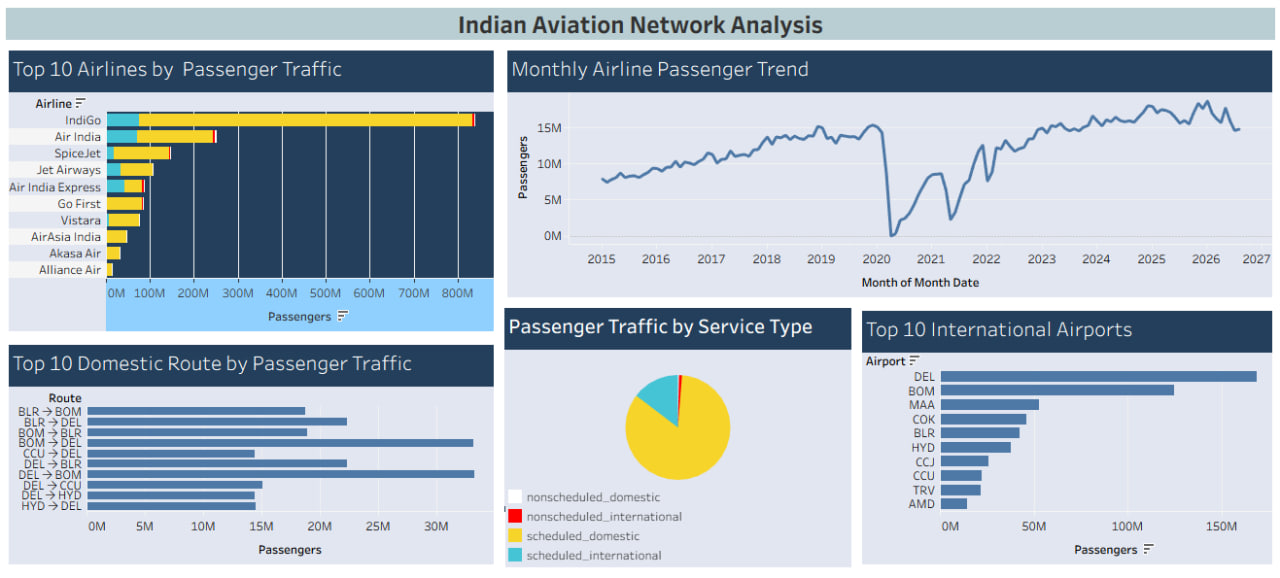

The page's visual inventory and layout, read from the dashboard file:
{"tool":"tableau","page":{"name":"Indian Aviation Network Analysis","canvas":[1330,600],"ordinal":1},"visuals":[{"type":"title","box":[8,8,1314,41]},{"type":"worksheet","title":"Top 10 Airlines by  Passenger Traffic","mark":"Automatic","rows":["airline"],"cols":["passengers"],"box":[8,49,512.9,303.1]},{"type":"worksheet","title":"Monthly Airline Passenger Trend","mark":"Line","rows":["passengers"],"cols":["Calculation_1193312022548481"],"box":[520.9,49,801.1,268]},{"type":"worksheet","title":"Passenger Traffic by Service Type","mark":"Pie","box":[520.9,317,365.1,218]},{"type":"worksheet","title":"Top 10 International Airports","mark":"Bar","rows":["airport"],"cols":["passengers"],"box":[886,317,436,275]},{"type":"worksheet","title":"Top 10 Domestic Route by Passenger Traffic","mark":"Automatic","rows":["Calculation_1193312024055810"],"cols":["passengers"],"box":[8,352.1,512.9,239.9]},{"type":"legend","title":"Passenger Traffic by Service Type","param":"[federated.1009ien08mei611cfykpq058k315].[none:service_type:nk]","box":[526,505,356,83]}]}

Visuals, with their boxes in screenshot pixels (x1, y1, x2, y2), scaled from the page's 1330x600 canvas onto the 1280x578 screenshot:
title: [8, 8, 1272, 47]
"Top 10 Airlines by  Passenger Traffic" worksheet: [8, 47, 501, 339]
"Monthly Airline Passenger Trend" worksheet (Line marks): [501, 47, 1272, 305]
"Passenger Traffic by Service Type" worksheet (Pie marks): [501, 305, 853, 515]
"Top 10 International Airports" worksheet (Bar marks): [853, 305, 1272, 570]
"Top 10 Domestic Route by Passenger Traffic" worksheet: [8, 339, 501, 570]
"Passenger Traffic by Service Type" legend: [506, 486, 849, 566]
